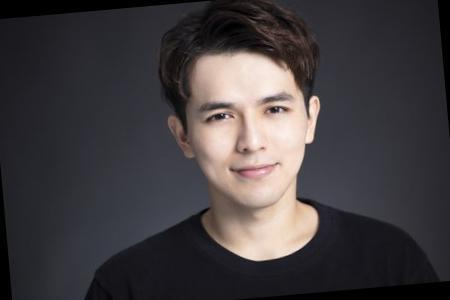Sober: (194, 58, 303, 204)
